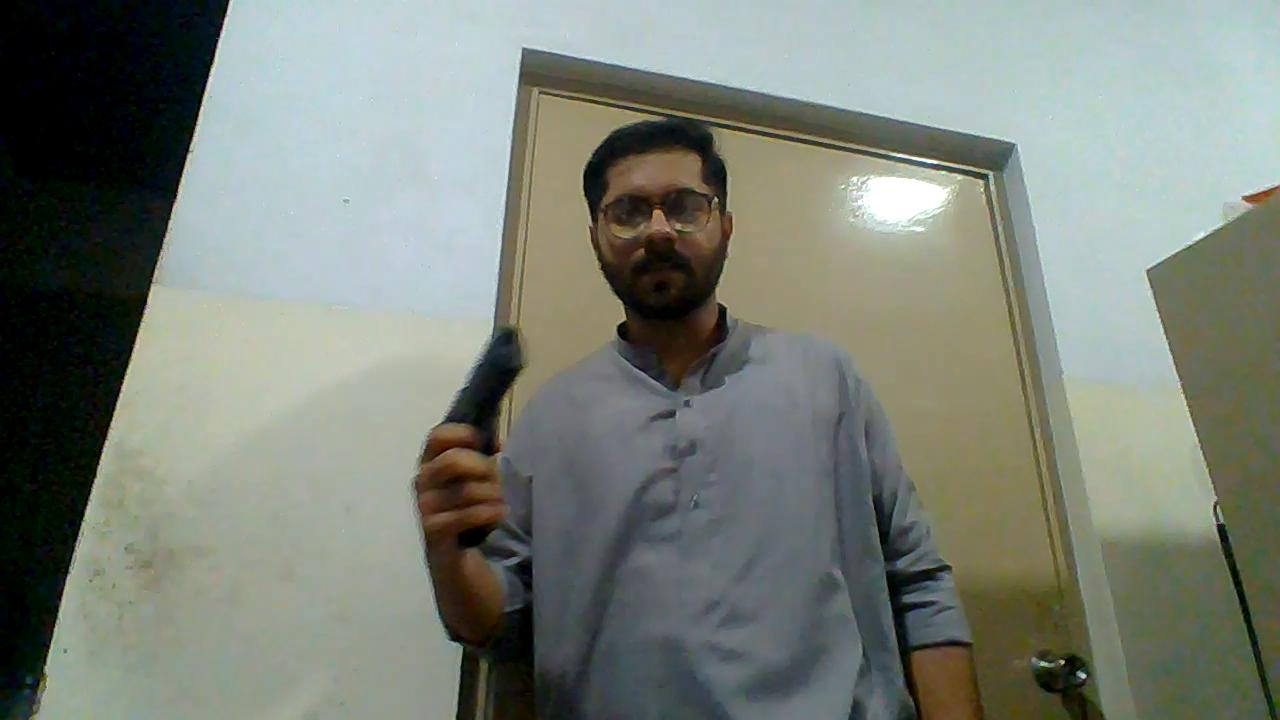criminal: (411, 114, 979, 720)
weapon: (430, 323, 524, 550)
